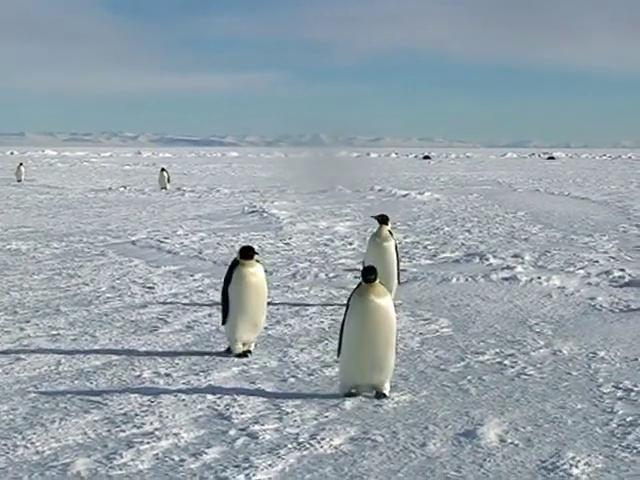animal: (365, 215, 401, 299)
